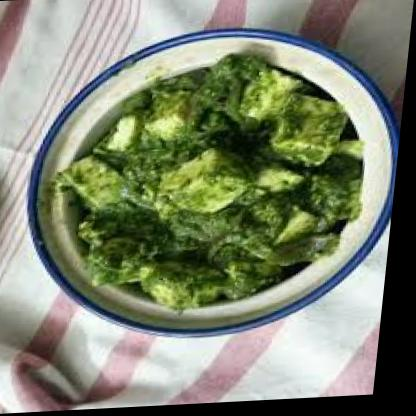palak_paneer: (53, 50, 382, 316)
